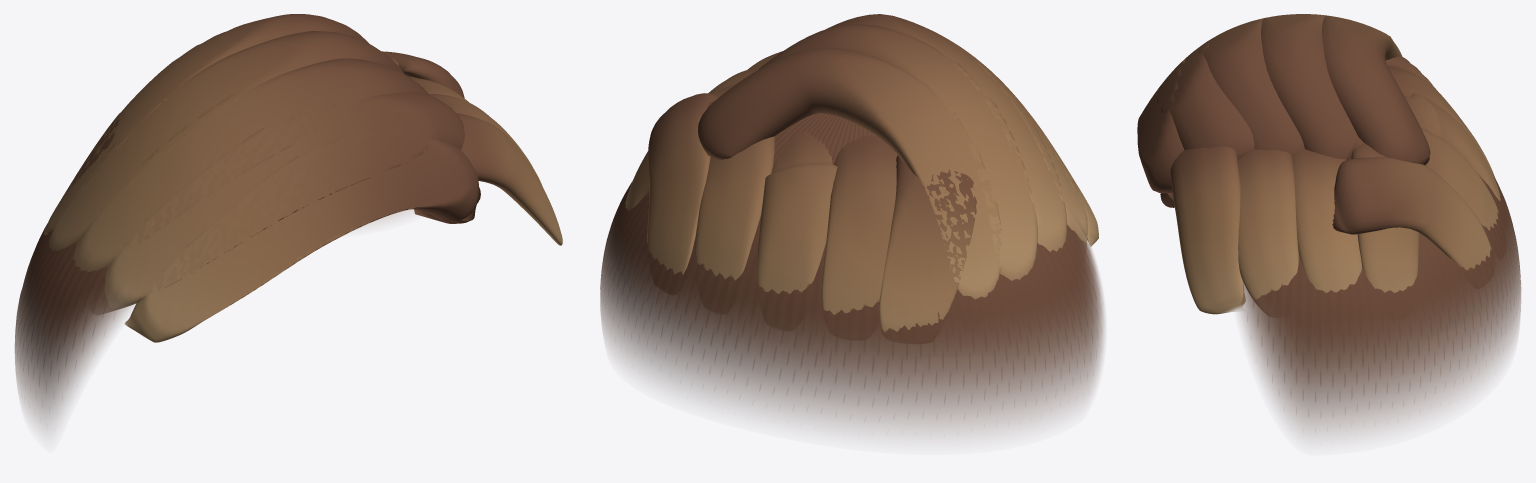
File: Masculine-taper-beanie257-hair-ombre.glb
3 renders of one model, left to right at view 1: azimuth 30°, elevation 25°; view 2: azimuth 150°, elevation 25°; view 3: azimuth 270°, elevation 25°, orthographic. The views are drawn at different scales.
Visible parts, largest first — view 1: 226 hair / Hair252 / sculpted locks, 226 hair / Hair252 / gentle tonal variation, 226 hair / Hair257 / smooth side fade, 226 hair / Hair257 / directional fade marks; view 2: 226 hair / Hair252 / sculpted locks, 226 hair / Hair257 / smooth side fade, 226 hair / Hair252 / gentle tonal variation, 226 hair / Hair257 / directional fade marks; view 3: 226 hair / Hair252 / sculpted locks, 226 hair / Hair257 / smooth side fade, 226 hair / Hair252 / gentle tonal variation, 226 hair / Hair257 / directional fade marks.
Part boxes in pixels (x1,y1,x2,y2): 226 hair / Hair252 / sculpted locks: [43, 14, 541, 313]; 226 hair / Hair252 / gentle tonal variation: [125, 113, 562, 342]; 226 hair / Hair257 / smooth side fade: [15, 210, 411, 429]; 226 hair / Hair257 / directional fade marks: [16, 230, 106, 384]; 226 hair / Hair252 / sculpted locks: [625, 14, 1087, 332]; 226 hair / Hair257 / smooth side fade: [600, 113, 1104, 434]; 226 hair / Hair252 / gentle tonal variation: [747, 51, 1098, 314]; 226 hair / Hair257 / directional fade marks: [607, 184, 1097, 404]; 226 hair / Hair252 / sculpted locks: [1156, 14, 1500, 313]; 226 hair / Hair257 / smooth side fade: [1238, 95, 1520, 435]; 226 hair / Hair252 / gentle tonal variation: [1137, 57, 1494, 314]; 226 hair / Hair257 / directional fade marks: [1253, 185, 1519, 402].
Size of the model in its own units: 0.9723 by 0.6941 by 0.722.
